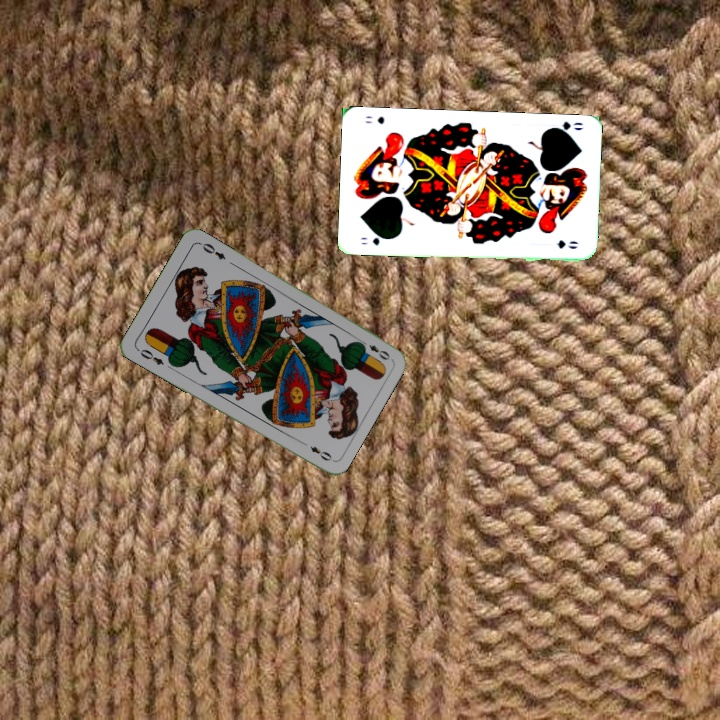EO: (356, 336, 393, 363), (133, 345, 167, 368)
GO: (545, 117, 586, 137), (357, 231, 393, 248)
